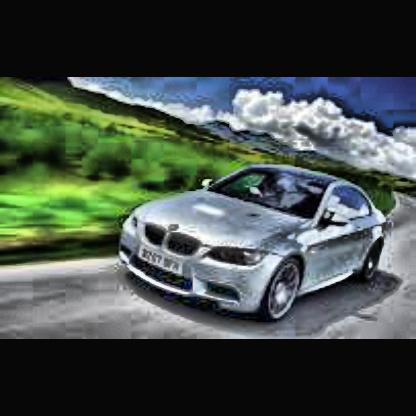BMW M3 Coupe 2012: (118, 165, 398, 337)
